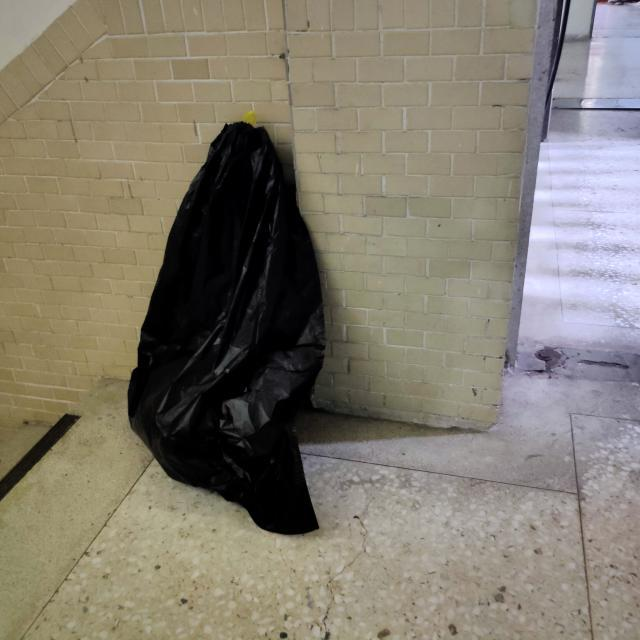Vinyl: (107, 84, 340, 540)
